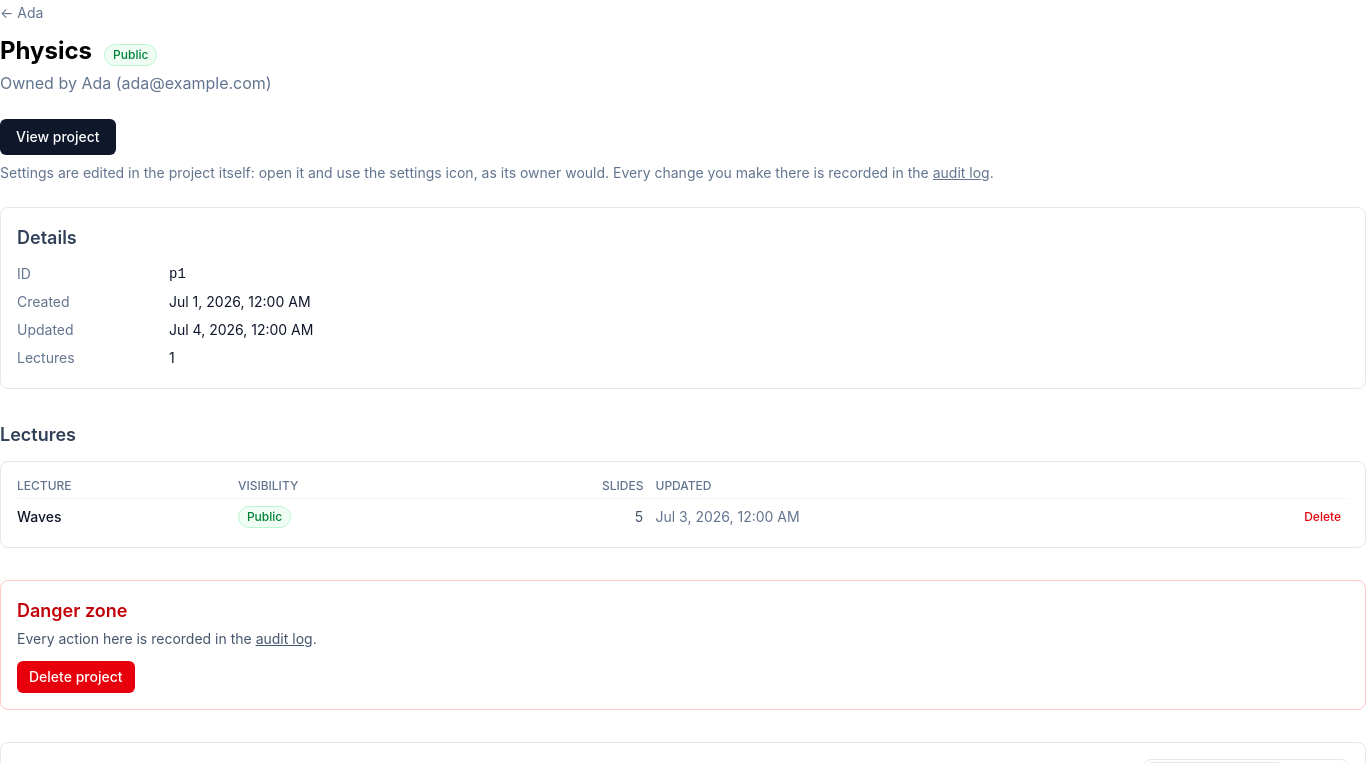
Test: AdminProjectPage › deletes a lecture from its table row after a confirm
The image size is (1366, 763).
Expected: the link "Waves" is shown, [17,508,62,525]
Click the button with aria-label "Delete lecture Waves" at (1323, 517), box [1296,505,1349,529]
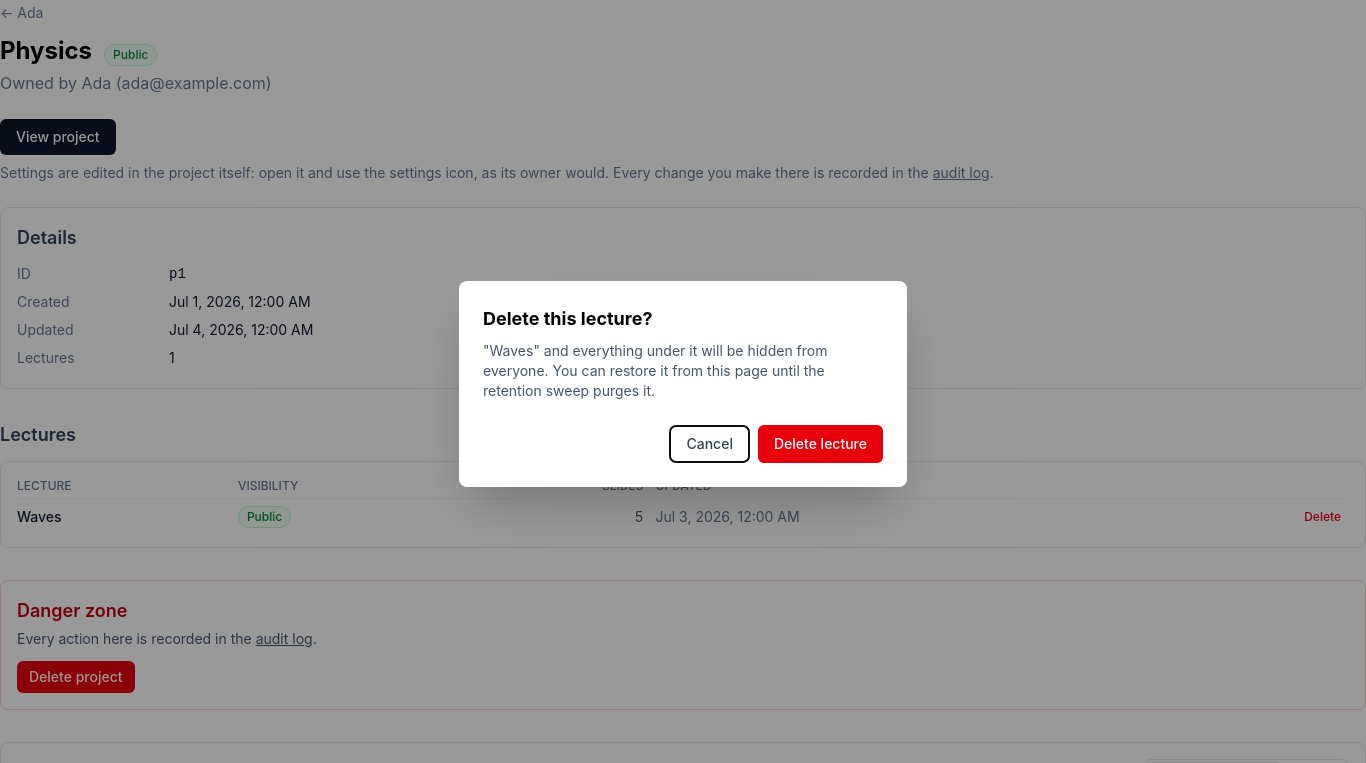
Click the button "Delete lecture" at (820, 444), box [758,425,883,463]
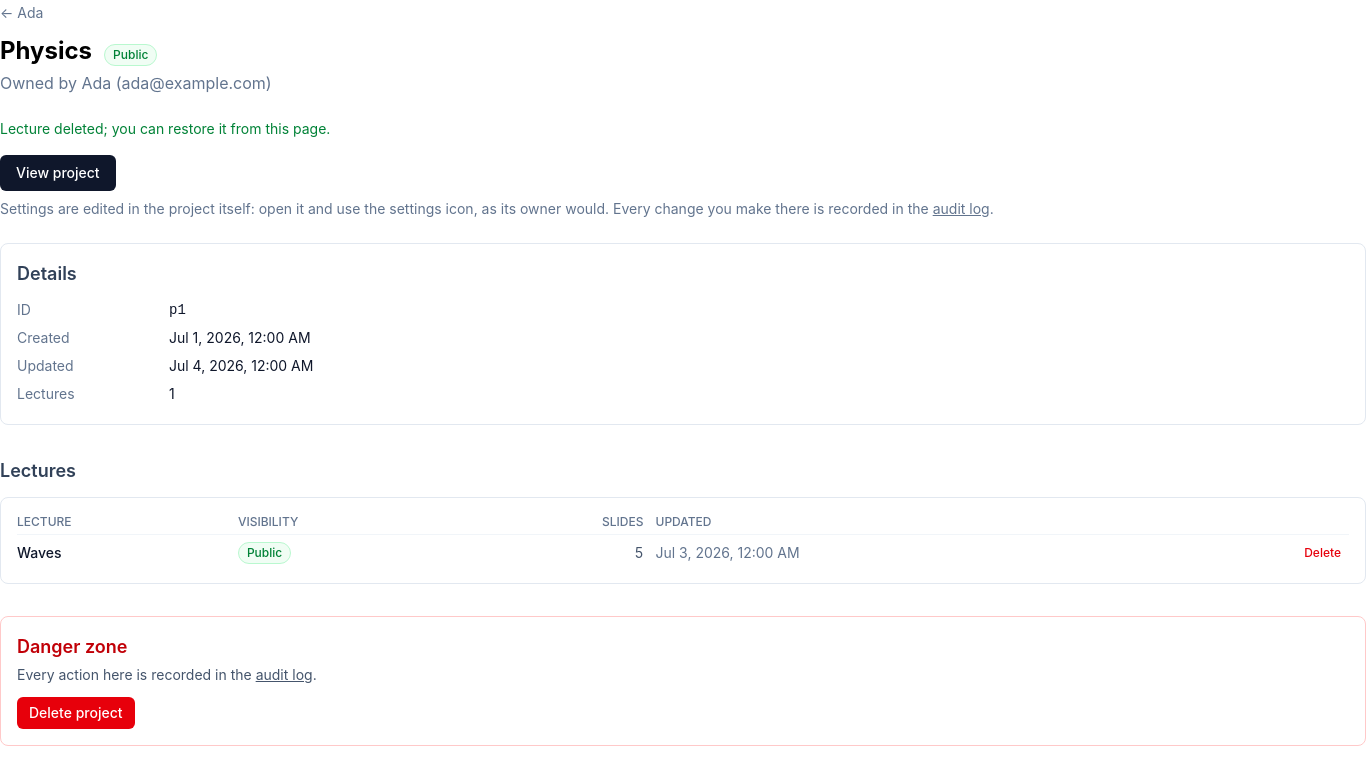
Now the text "Lecture deleted; you can restore it from this page." is shown, box [0,120,330,137]
